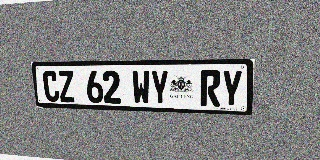2: (102, 70, 121, 104)
6: (85, 70, 104, 103)
C: (42, 71, 60, 102)
R: (200, 70, 221, 107)
W: (131, 70, 150, 105)
Y: (221, 70, 243, 107), (150, 70, 169, 105)
Z: (57, 71, 75, 102)
